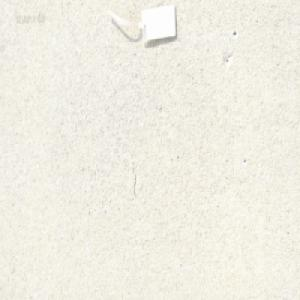LuggageTag: (101, 2, 177, 49)
